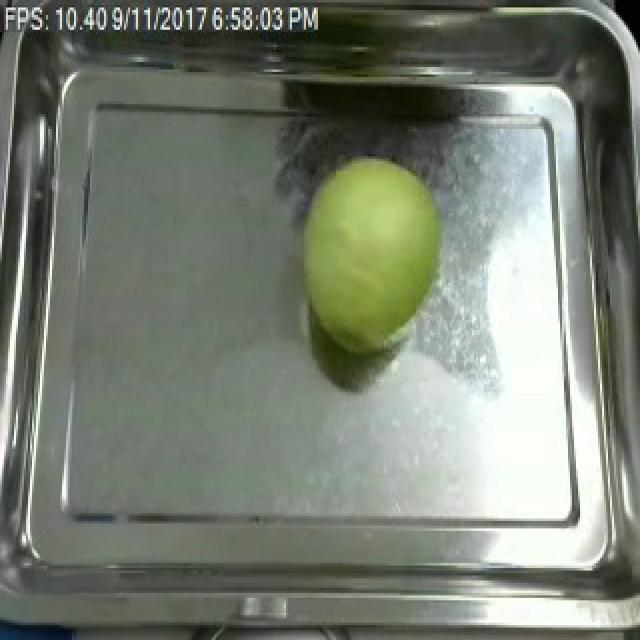Fruit: (290, 144, 452, 365)
